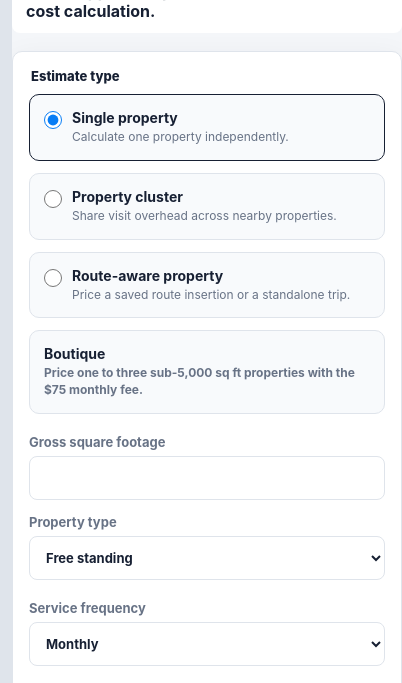
Test: calculates and copies an internal pricing estimate
The width and height of the screenshot is (402, 683).
Type "18000" into the number field labelled "Gross square footage". click: (207, 478)
box: [29,456,385,500]
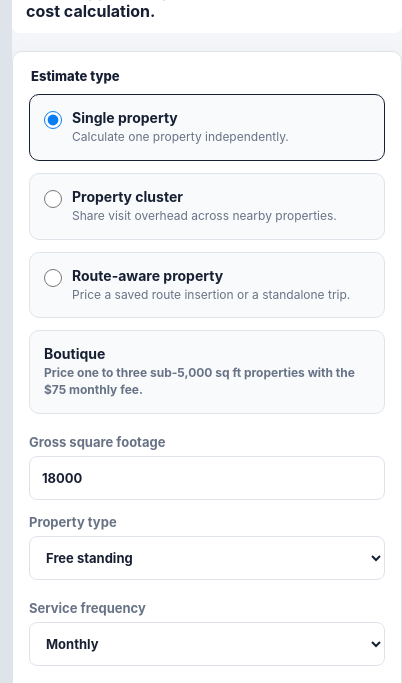
Select "Strip mall" in the dropdown labelled "Property type". click: (207, 558)
box: [29,536,385,580]
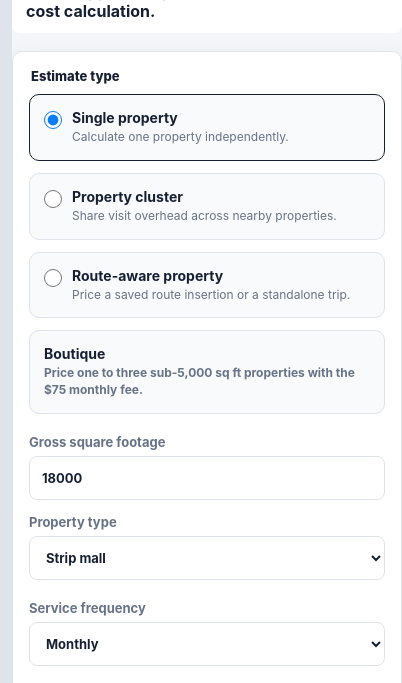
Select "Weekly" in the dropdown labelled "Service frequency". click: (207, 644)
box: [29,622,385,666]
(page scrolled)
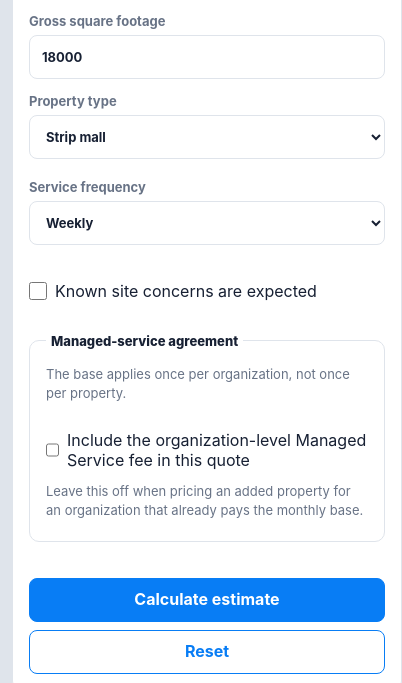
Click the button "Calculate estimate". click: click(207, 600)
box: [29,578,385,622]
(page scrolled)
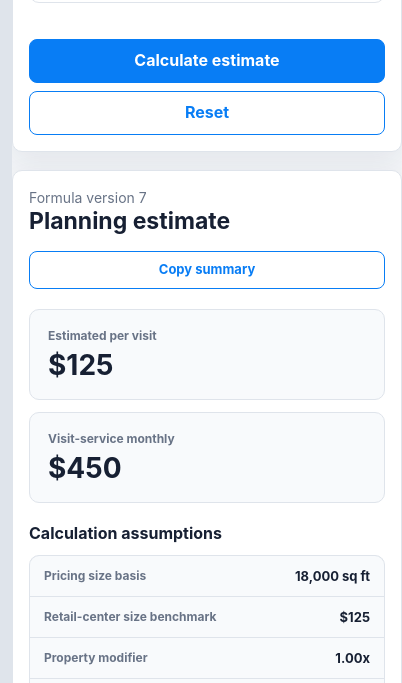
Now the text "$125" below "Estimated per visit" is shown, box [48,348,114,382]
Now the text "$450" is shown, box [48,451,122,485]
Now the text "1.00x" is shown, box [335,650,370,666]
Click the button "Copy summary". click: click(207, 270)
box: [29,251,385,289]
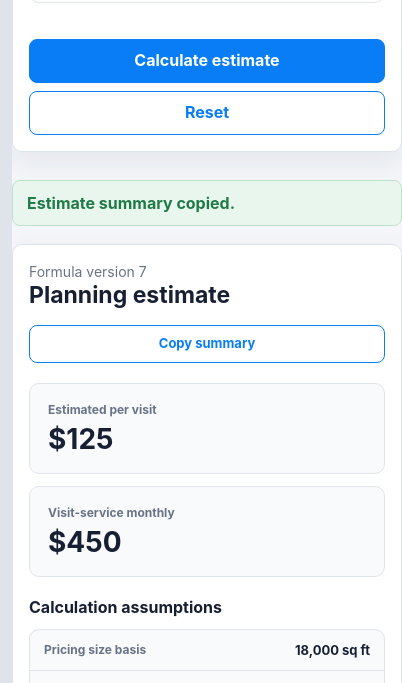
Now the message reads "Estimate summary copied.", box [27,193,235,213]
